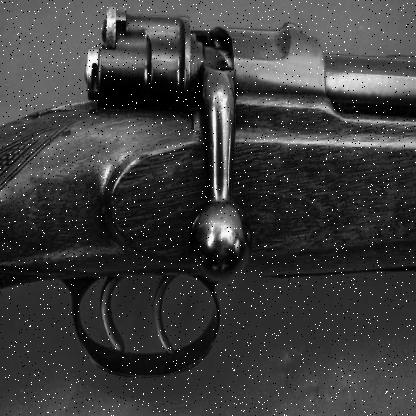rifle: (0, 11, 414, 387)
